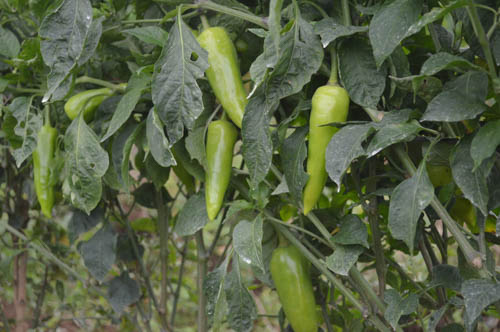ChiliPepper: (303, 86, 347, 217), (194, 29, 251, 124), (270, 246, 320, 329), (206, 122, 244, 223), (29, 126, 56, 215), (63, 85, 120, 119)
